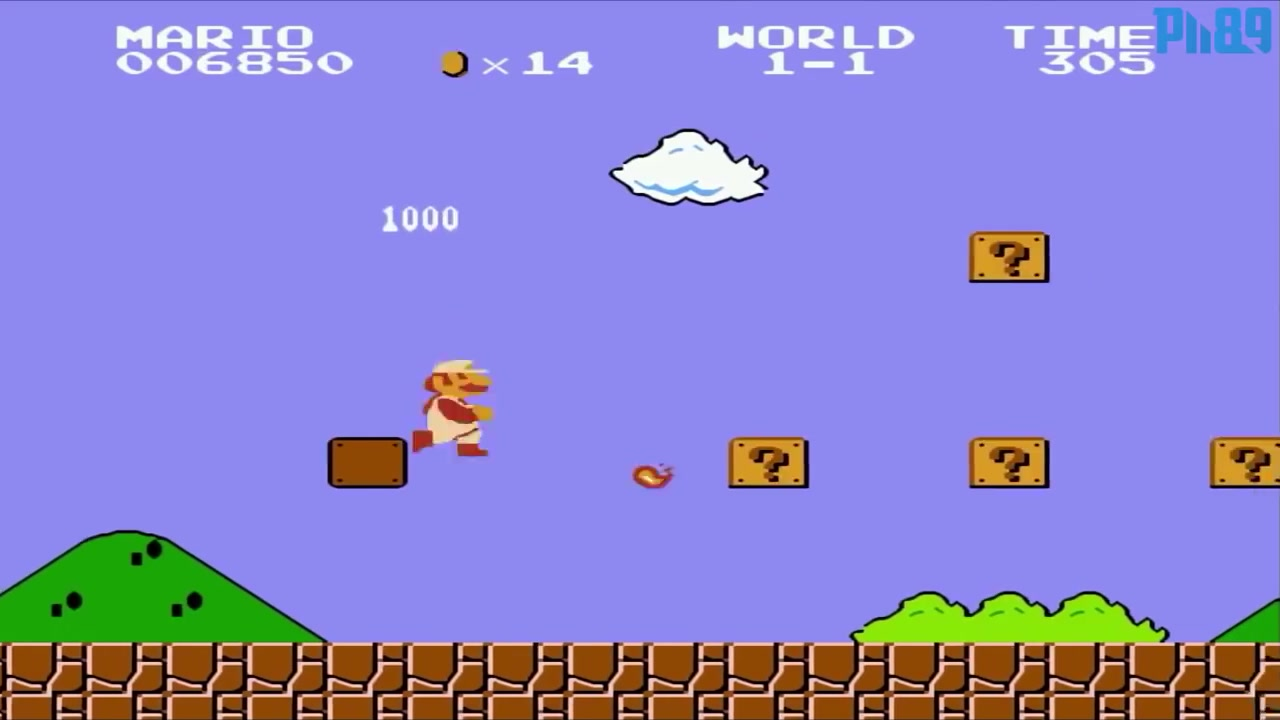mario: (401, 346, 500, 461)
